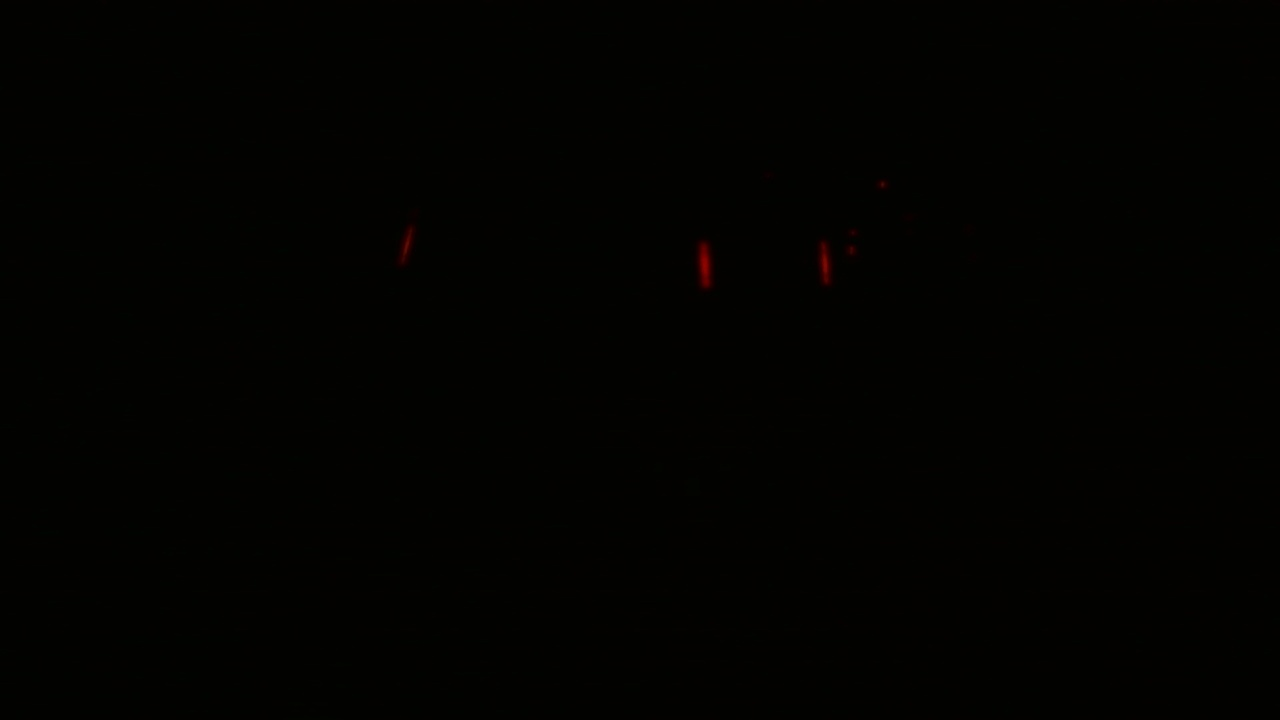pair1: (693, 235, 836, 293)
